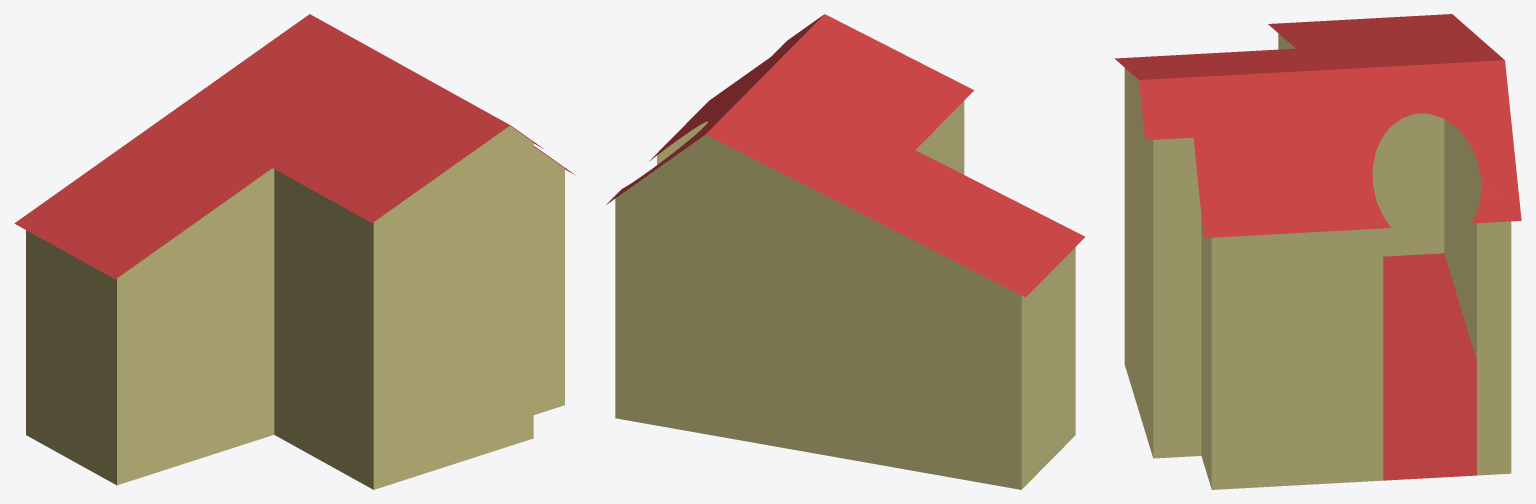
3 renders of one model, left to right at view 1: azimuth 30°, elevation 25°; view 2: azimuth 150°, elevation 25°; view 3: azimuth 270°, elevation 25°, orthographic. The views are drawn at different scales.
Size of the model in its own units: 15.67 by 10.99 by 10.79.
